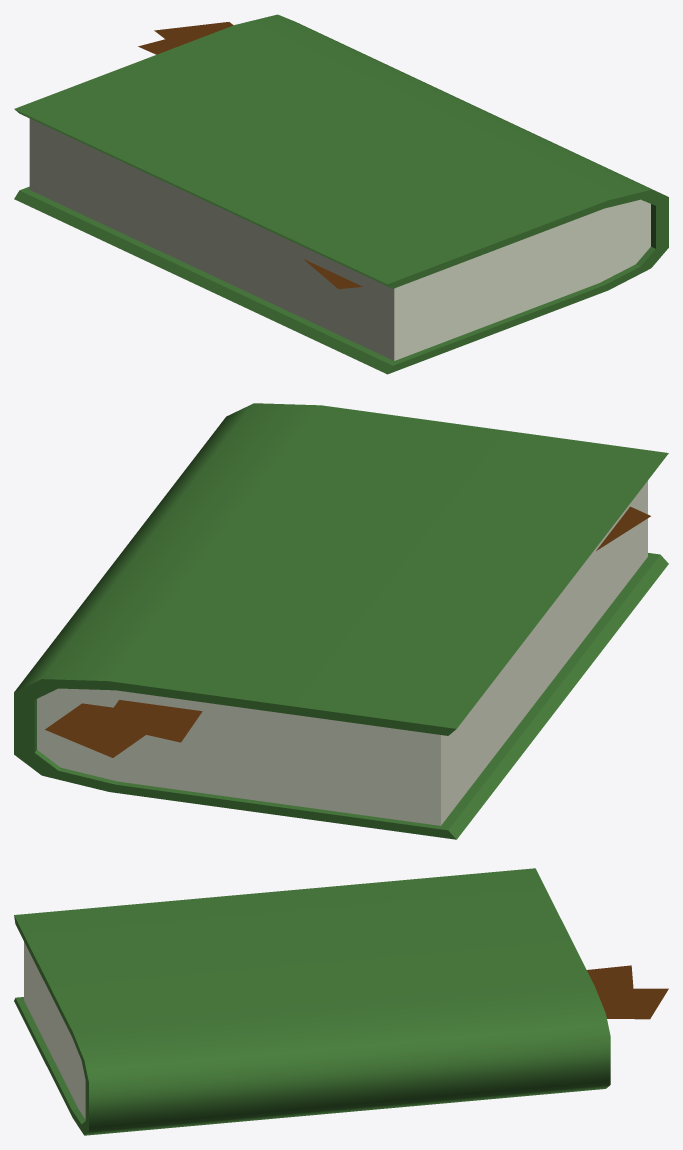
Rendered from book2.fbx.
3 renders of one model, top to bottom at view 1: azimuth 30°, elevation 25°; view 2: azimuth 150°, elevation 25°; view 3: azimuth 270°, elevation 25°, orthographic. The views are drawn at different scales.
Visible parts, largest first — view 1: Cube.038, Plane.003; view 2: Cube.038, Plane.003; view 3: Cube.038, Plane.003.
Boxes of the visible parts, left/top/right/bottom form: Cube.038: left=14, top=14, right=668, bottom=374; Plane.003: left=138, top=22, right=362, bottom=289; Cube.038: left=14, top=403, right=668, bottom=839; Plane.003: left=45, top=506, right=650, bottom=757; Cube.038: left=14, top=868, right=610, bottom=1135; Plane.003: left=587, top=965, right=668, bottom=1019.
Size of the model in its own units: 611 by 125 by 862.
